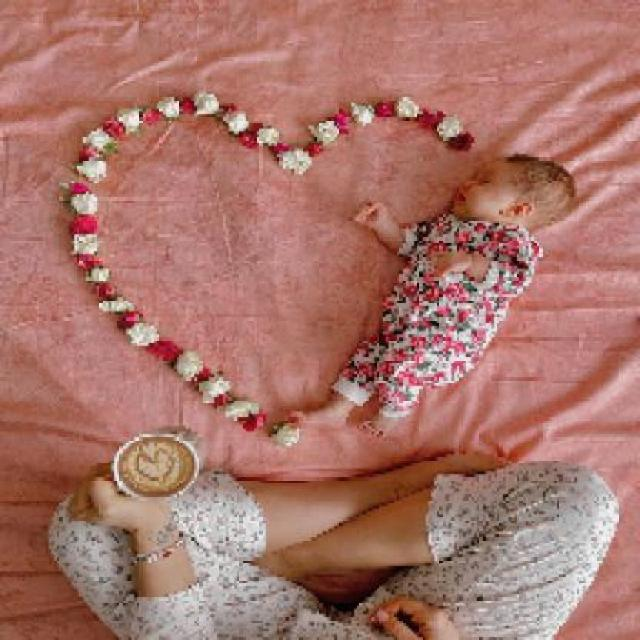child: (286, 151, 577, 440)
